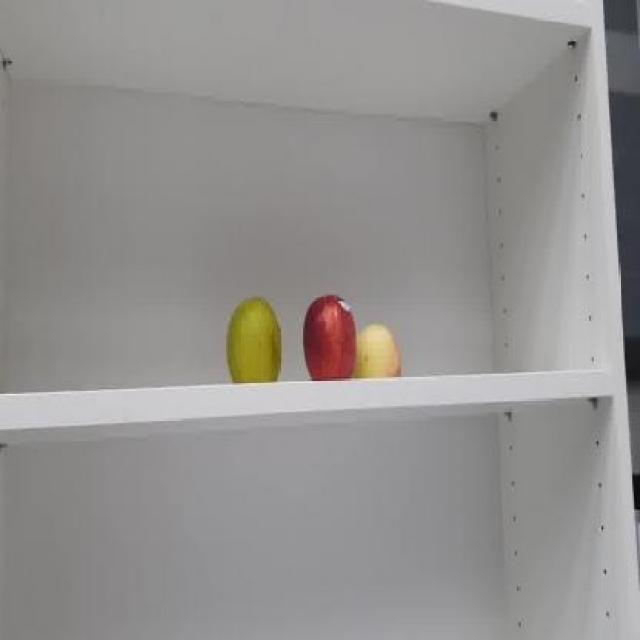Fresh Apple: (223, 290, 285, 388), (300, 290, 358, 384), (354, 318, 401, 380)
